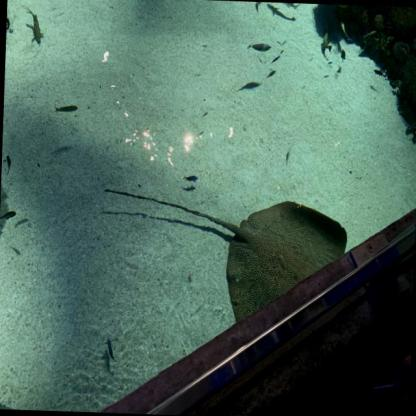fish: (24, 6, 44, 44), (265, 2, 295, 21), (103, 336, 117, 364), (338, 18, 352, 42), (320, 28, 333, 52), (237, 80, 262, 92), (53, 103, 77, 114), (275, 2, 300, 12), (246, 42, 271, 52), (360, 29, 376, 44), (0, 211, 17, 223), (284, 147, 294, 164), (182, 174, 198, 182), (5, 154, 11, 173), (339, 48, 347, 62), (265, 69, 276, 79), (271, 53, 281, 64), (372, 70, 387, 77), (6, 16, 10, 32), (202, 111, 209, 118)
stingray: (223, 198, 348, 329)
